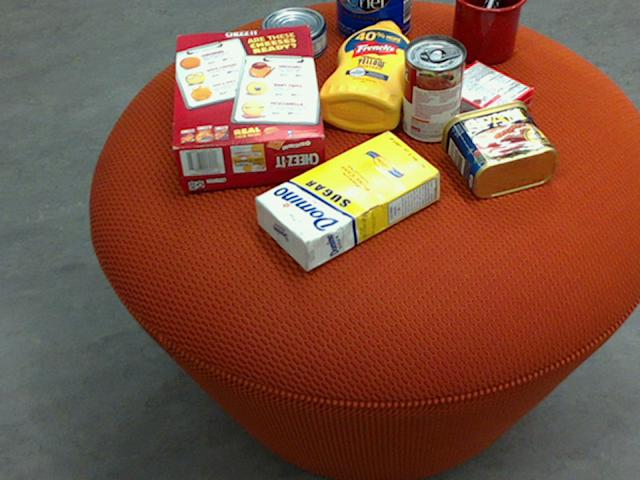cracker_box: (169, 23, 326, 189)
gelatin_box: (438, 61, 534, 131)
large_marker: (465, 0, 498, 55)
master_chef_can: (336, 0, 411, 42)
mug: (451, 0, 526, 63)
mustard_bottle: (317, 20, 415, 132)
potted_meat_can: (440, 99, 556, 197)
sugar_box: (254, 129, 441, 272)
tomato_soup_can: (402, 33, 465, 141)
tuna_fish_can: (259, 6, 326, 60)
